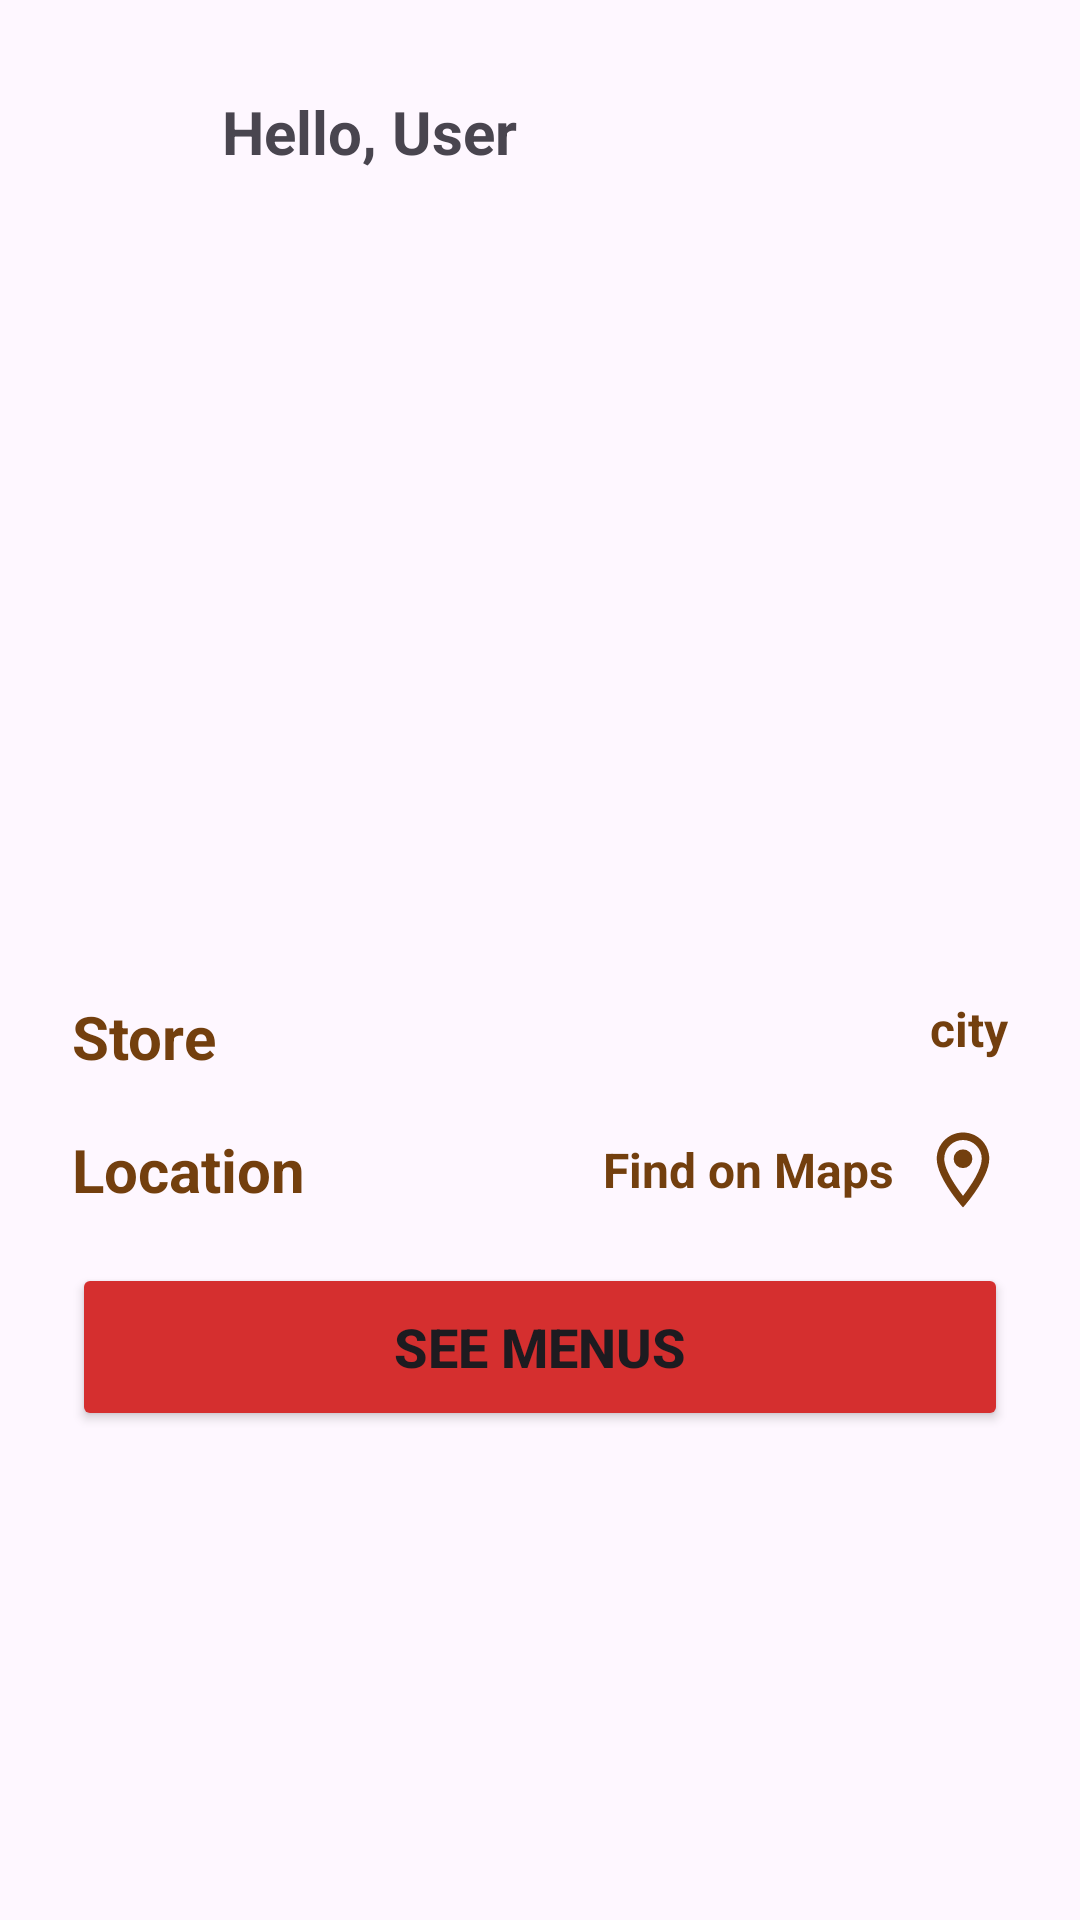

Icon click points for this 1080x1920 phone screenshot, format (x=x, y=y):
location: (x=963, y=1169)
